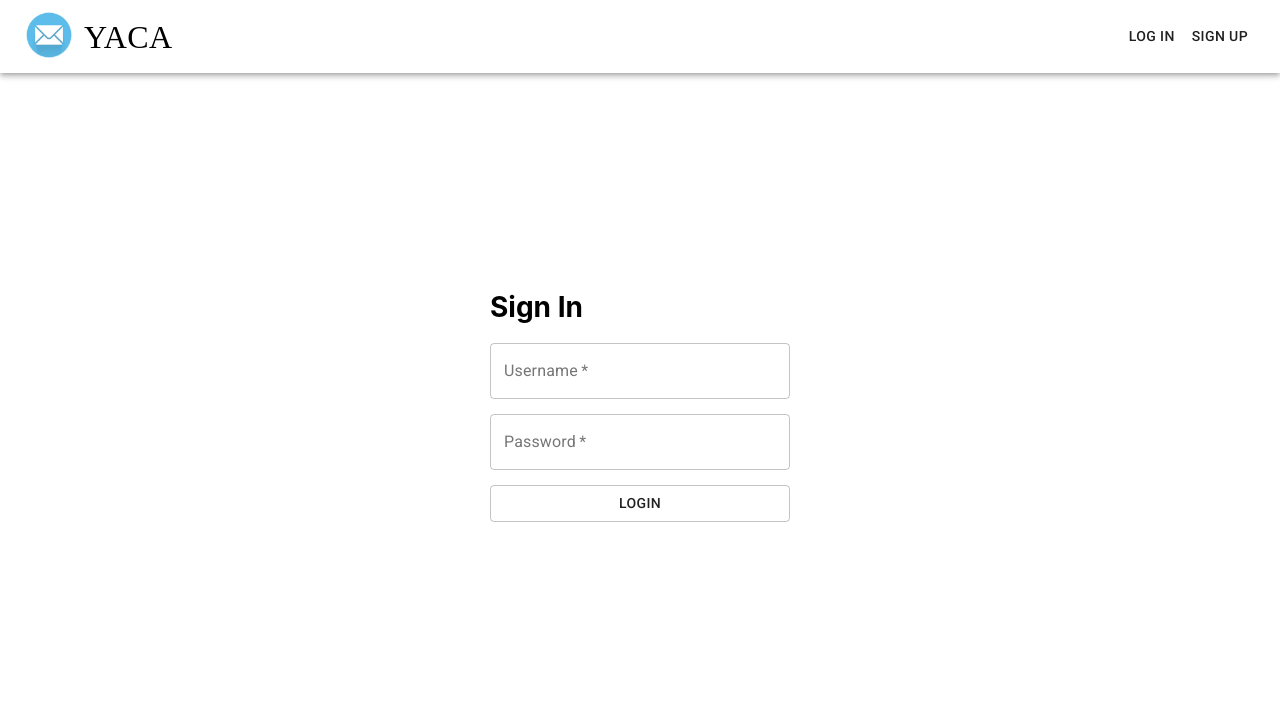
Test: should not login and return error message
Note: set username and password
Type "test_user" into the field with test id "loginpage-username" at (640, 371), box left=490, top=343, right=790, bottom=399
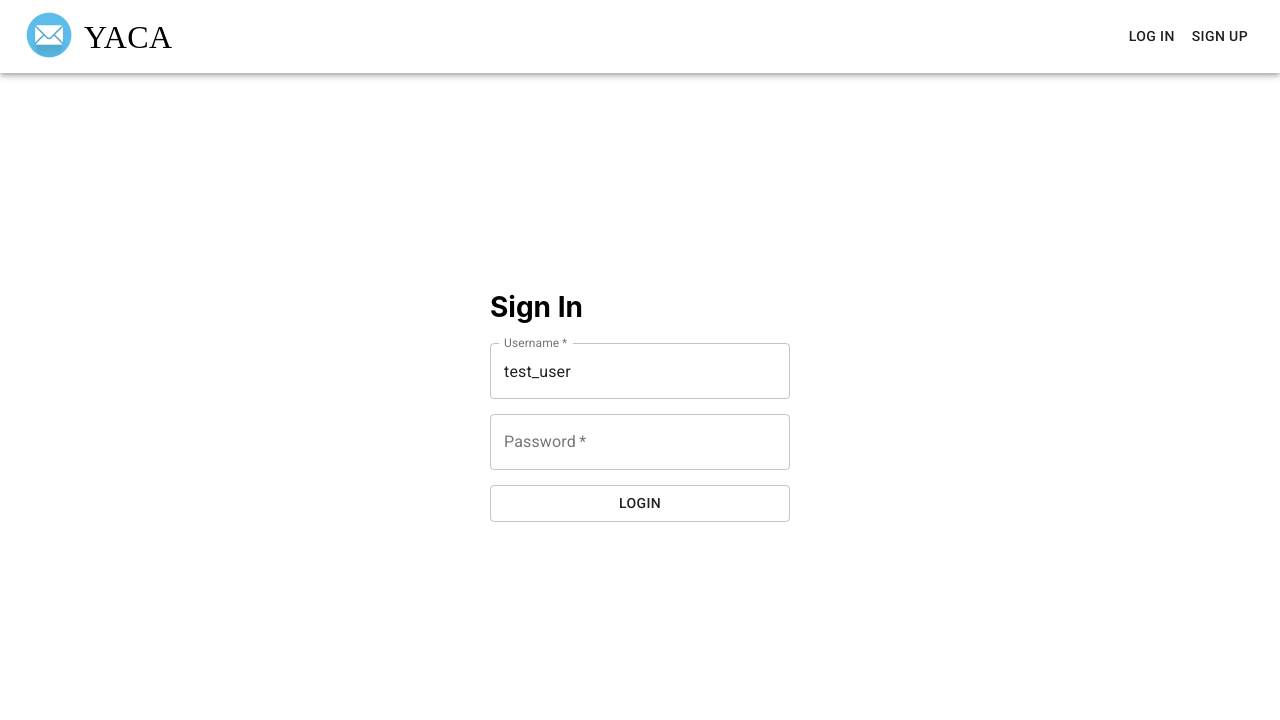
Type "wrong_password" into the password field with test id "loginpage-password" at (640, 442), box left=490, top=414, right=790, bottom=470
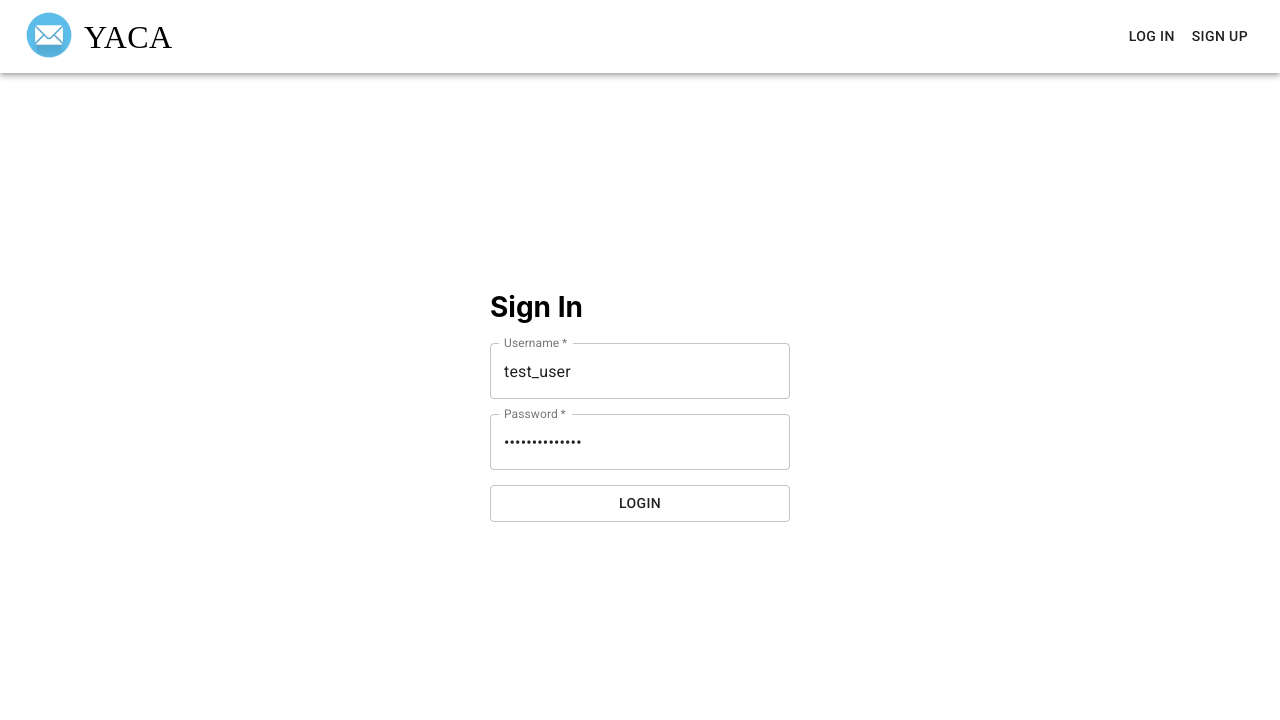
Click the button with test id "loginpage-submit" at (640, 503), box left=490, top=485, right=790, bottom=522
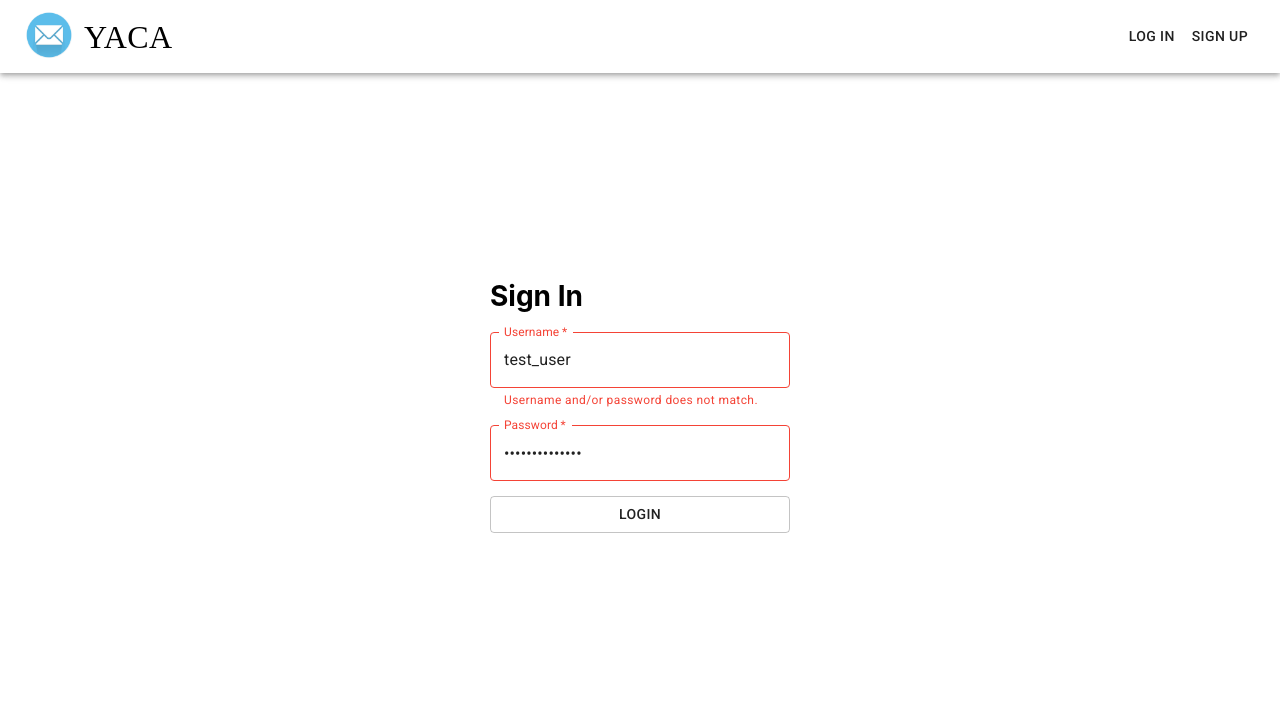
Check: the text with test id "loginpage-username-helper" reads "Username and/or password does not match.", box left=504, top=392, right=758, bottom=406
